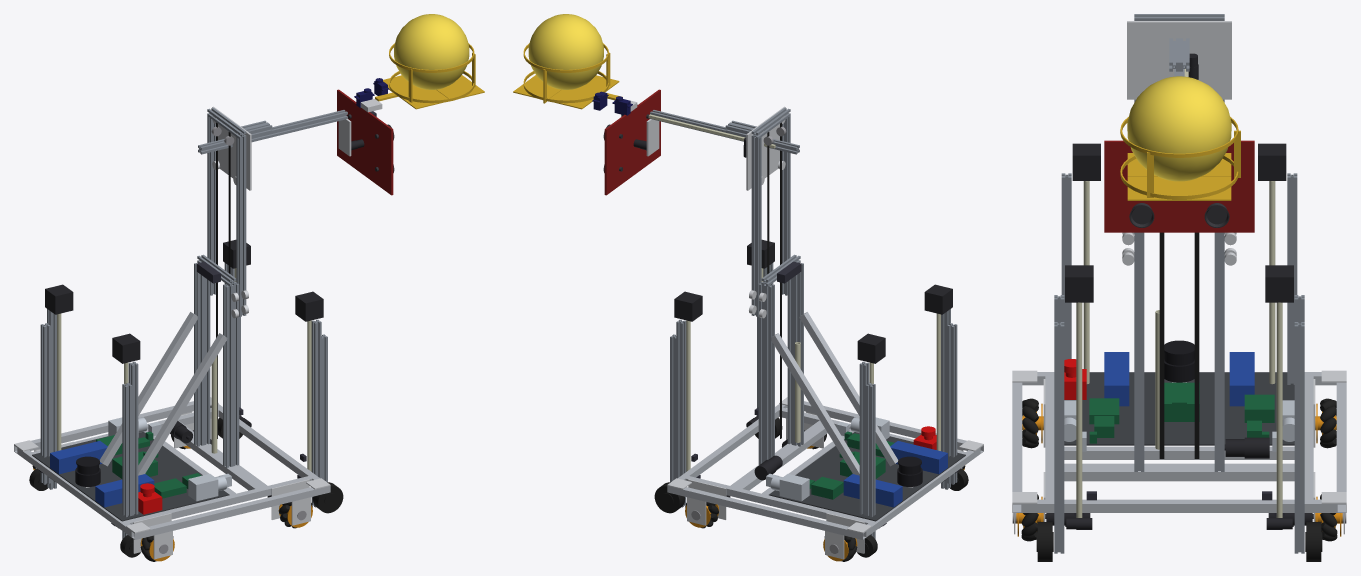
Rendered from BR-B_terjulur.glb.
The picture shows the model from 3 angles, left to right: view 1: azimuth 30°, elevation 25°; view 2: azimuth 150°, elevation 25°; view 3: azimuth 270°, elevation 25°; orthographic projection. The views are drawn at different scales.
Visible parts, largest first — view 1: Mustika (peraga), pelat_kepala_vakum, tiang_lift_t0_2, dek_elektronik, tiang_lift_t0, dek_samping_kanan, tiang_lift_t1_2, pemandu_F_2, penguat_tiang_2, penguat_tiang, batang_R, batang_R_2 (+25 smaller); view 2: Mustika (peraga), pelat_kepala_vakum, dek_elektronik, tiang_lift_t0, tiang_lift_t0_2, dek_samping_kiri, tiang_lift_t1, pemandu_F, penguat_tiang, penguat_tiang_2, batang_R_2, batang_R (+24 smaller); view 3: Mustika (peraga), dek_elektronik, pelat_kepala_vakum, carriage, palang_tiang, dek_depan, keranjang_alas_2_daun, batang_F, batang_F_2, tiang_lift_t0, tiang_lift_t0_2, palang_3 (+41 smaller).
Part boxes in pixels (box(x1,y1,x2,y2)): Mustika (peraga): box(394, 14, 469, 89); pelat_kepala_vakum: box(337, 89, 393, 195); tiang_lift_t0_2: box(223, 281, 239, 467); dek_elektronik: box(32, 432, 228, 521); tiang_lift_t0: box(194, 263, 210, 446); dek_samping_kanan: box(131, 486, 330, 539); tiang_lift_t1_2: box(236, 137, 246, 316); pemandu_F_2: box(311, 319, 321, 507); penguat_tiang_2: box(138, 333, 227, 475); penguat_tiang: box(99, 312, 197, 466); batang_R: box(40, 323, 50, 484); batang_R_2: box(122, 383, 132, 539); Mustika (peraga): box(528, 14, 603, 89); pelat_kepala_vakum: box(604, 89, 660, 195); dek_elektronik: box(769, 432, 965, 521); tiang_lift_t0: box(758, 281, 774, 464); tiang_lift_t0_2: box(787, 263, 803, 446); dek_samping_kiri: box(667, 486, 866, 539); tiang_lift_t1: box(751, 137, 761, 316); pemandu_F: box(676, 319, 686, 507); penguat_tiang: box(771, 333, 859, 475); penguat_tiang_2: box(799, 312, 898, 466); batang_R_2: box(947, 323, 957, 484); batang_R: box(865, 383, 875, 539); Mustika (peraga): box(1127, 76, 1231, 181); dek_elektronik: box(1064, 372, 1294, 445); pelat_kepala_vakum: box(1104, 140, 1254, 232); carriage: box(1127, 21, 1231, 99); palang_tiang: box(1064, 463, 1294, 481); dek_depan: box(1022, 499, 1336, 512); keranjang_alas_2_daun: box(1127, 153, 1231, 200); batang_F: box(1294, 322, 1304, 543); batang_F_2: box(1054, 322, 1064, 543); tiang_lift_t0: box(1214, 271, 1224, 471); tiang_lift_t0_2: box(1134, 271, 1144, 471); palang_3: box(1064, 446, 1294, 459).
Size of the model in its own units: 1256 by 1291 by 668.
